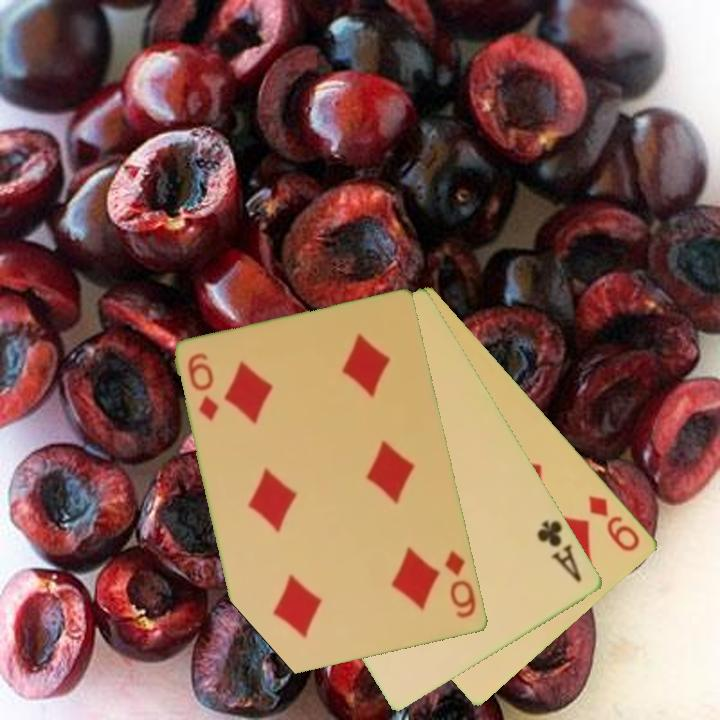6d: (184, 349, 223, 425), (442, 547, 480, 622)
9d: (585, 491, 643, 555)
Ac: (534, 516, 585, 586)
